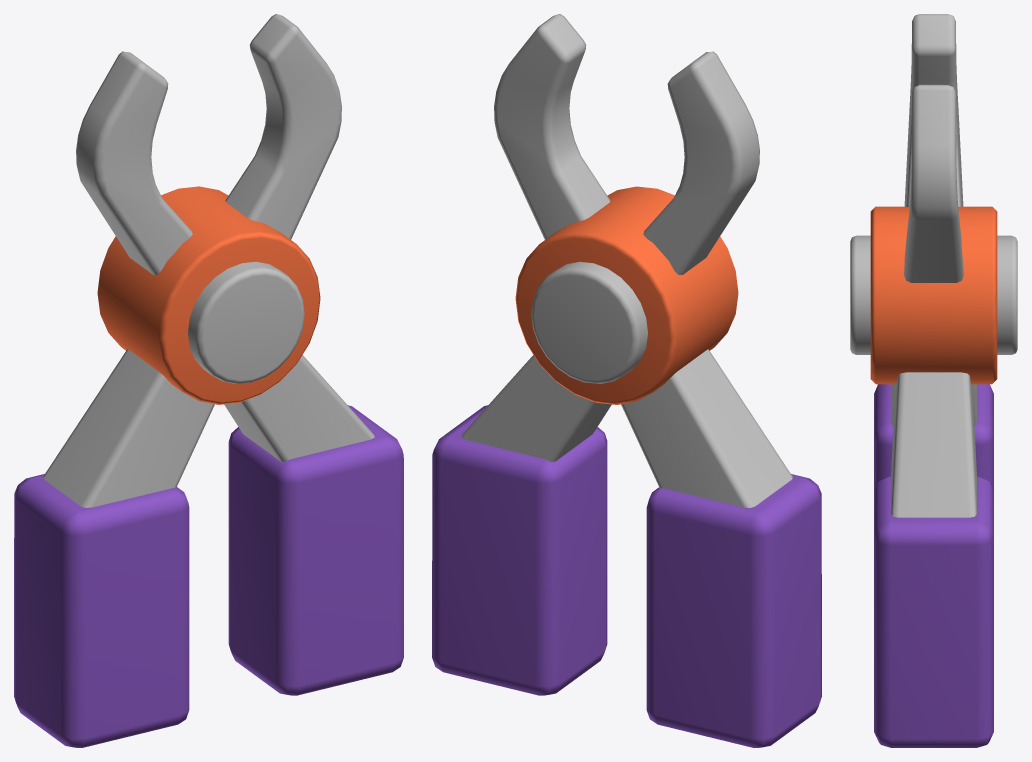
File: Public_20_Forceps_1.glb
3 views of the same model, side by side, from view 1: azimuth 30°, elevation 25°; view 2: azimuth 150°, elevation 25°; view 3: azimuth 270°, elevation 25° (orthographic). The views are drawn at different scales.
Parts seen in each view (by area): view 1: Public_20_Forceps_1; view 2: Public_20_Forceps_1; view 3: Public_20_Forceps_1.
Boxes of the visible parts, x1=… form: Public_20_Forceps_1: x1=14, y1=14, x2=403, y2=747; Public_20_Forceps_1: x1=432, y1=14, x2=821, y2=747; Public_20_Forceps_1: x1=850, y1=14, x2=1017, y2=747.
Size of the model in its own units: 1.59 by 2.91 by 0.7064.
1 material, 1 textured.
